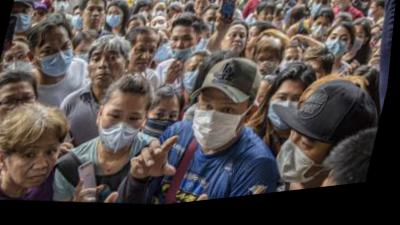NONE: (10, 136, 67, 194), (85, 47, 131, 95), (1, 86, 41, 134), (127, 44, 160, 79), (223, 32, 250, 64), (83, 6, 107, 32), (372, 52, 387, 77), (243, 36, 260, 58), (193, 1, 212, 20), (286, 1, 296, 6)
OK: (188, 97, 252, 161), (276, 131, 336, 198), (95, 106, 150, 160), (266, 93, 310, 142), (36, 35, 78, 81), (144, 106, 184, 148), (1, 48, 35, 84), (8, 3, 37, 36), (325, 38, 354, 70), (254, 57, 282, 88), (182, 65, 206, 101), (344, 36, 368, 64), (280, 58, 306, 83), (74, 43, 96, 71), (200, 18, 222, 43), (155, 40, 176, 66), (311, 26, 334, 48), (103, 10, 125, 32), (311, 3, 332, 26), (193, 36, 214, 58), (149, 20, 169, 41), (69, 11, 88, 33), (151, 6, 171, 26), (256, 95, 271, 116), (52, 1, 72, 16), (137, 8, 152, 25), (274, 18, 288, 36), (169, 1, 183, 14), (366, 13, 378, 28), (105, 1, 116, 11), (166, 1, 177, 5), (239, 1, 249, 4), (261, 1, 275, 2)
WRONG: (167, 36, 200, 69), (259, 14, 280, 35), (29, 8, 48, 29), (333, 1, 348, 19)
